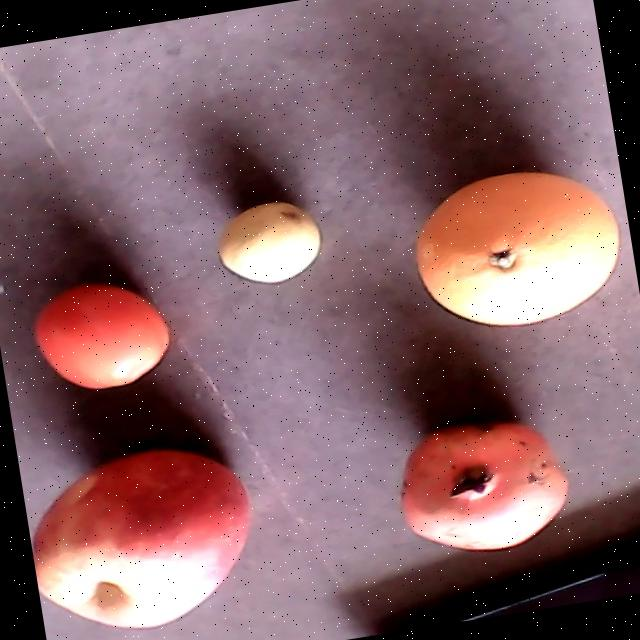apple: (31, 449, 252, 628)
lemon: (217, 202, 321, 283)
orange: (416, 170, 620, 325)
pomegranate: (402, 420, 569, 550)
tomato: (37, 286, 170, 387)
